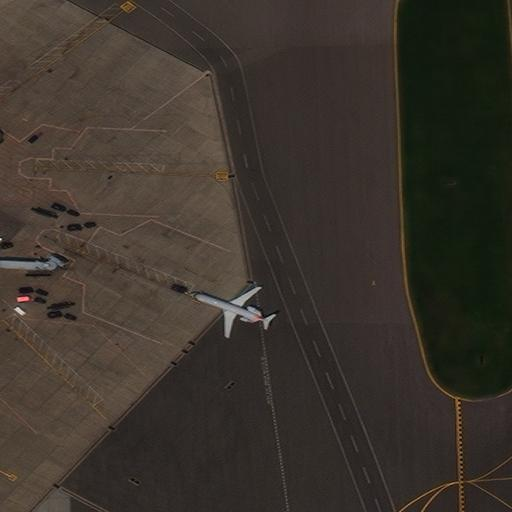Medium Civil Transport: (191, 286, 270, 336)
